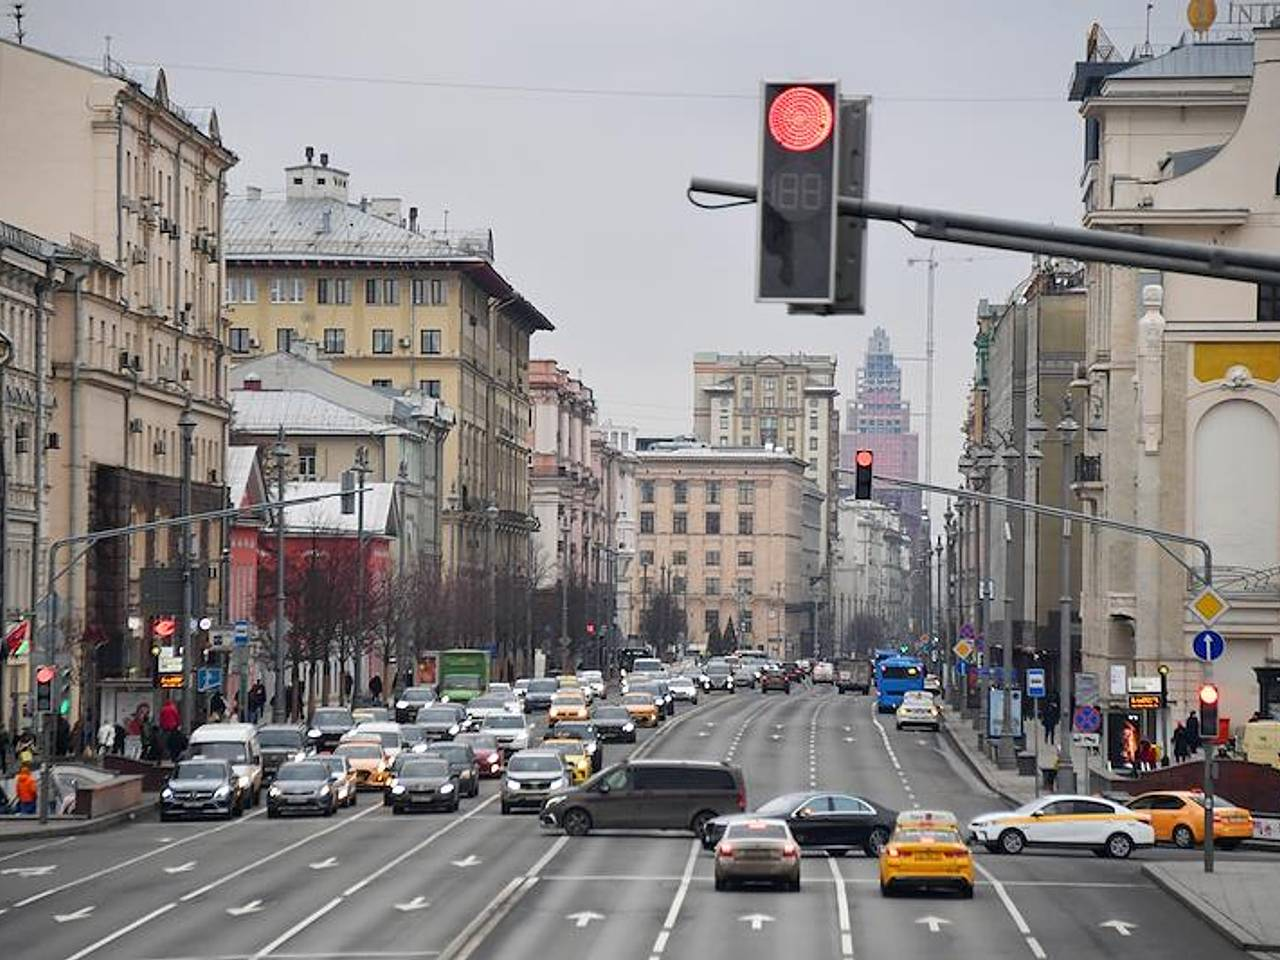tl: (760, 74, 866, 312)
